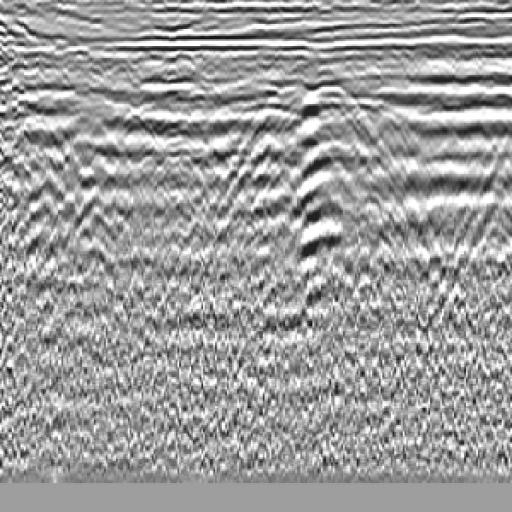metalic: (275, 78, 382, 145)
